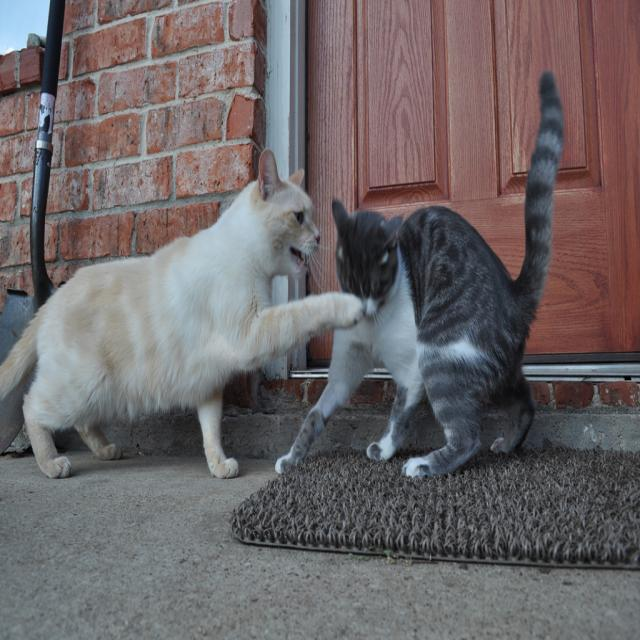Cat: (0, 139, 364, 478), (274, 70, 566, 478)
